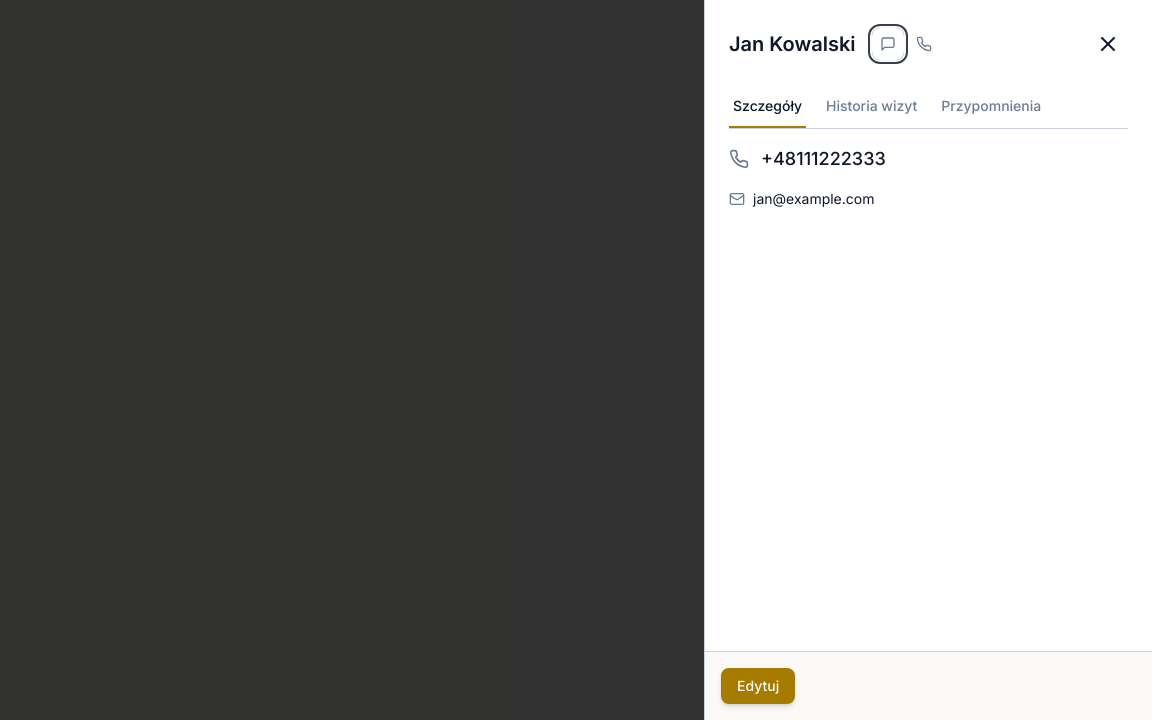
Test: CustomerEditDrawer › visit card click › does not call onOpenReservation when handler is not provided
The image size is (1152, 720).
Later steps or results of the test are not shown.
Step 1. Click the tab "Historia wizyt" → point(872, 108), box [822,88,921,128]
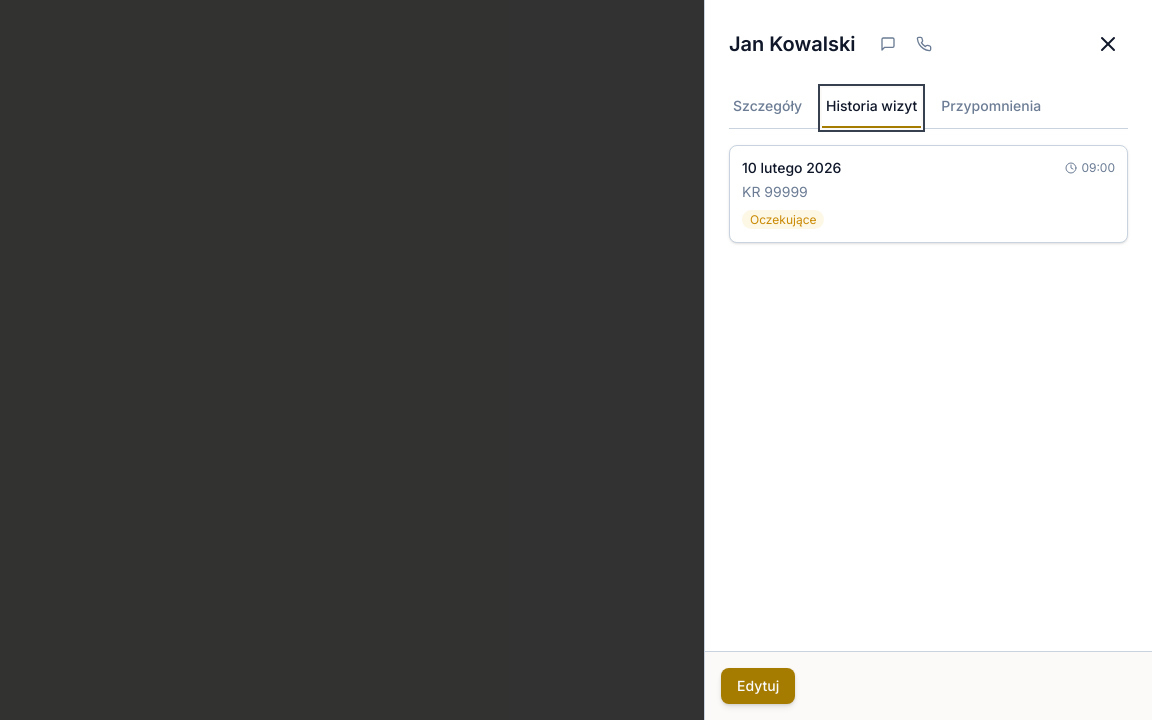
expect the text "KR 99999" is shown: met, box [742,182,808,202]
